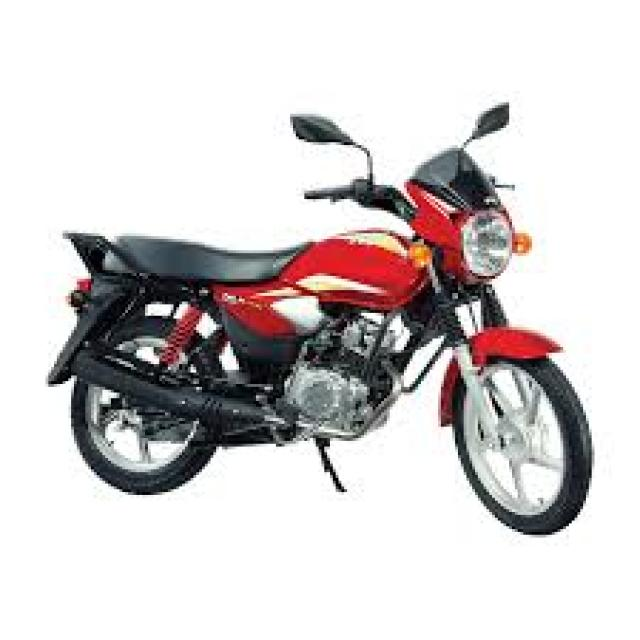bodaboda: (39, 80, 606, 591)
